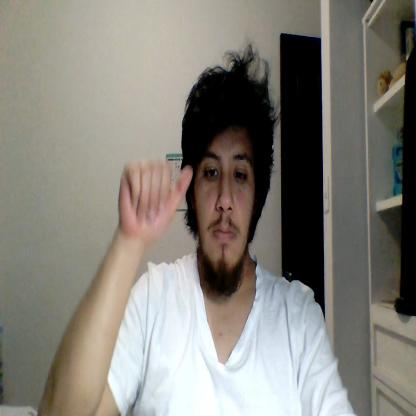A: (118, 159, 193, 242)
